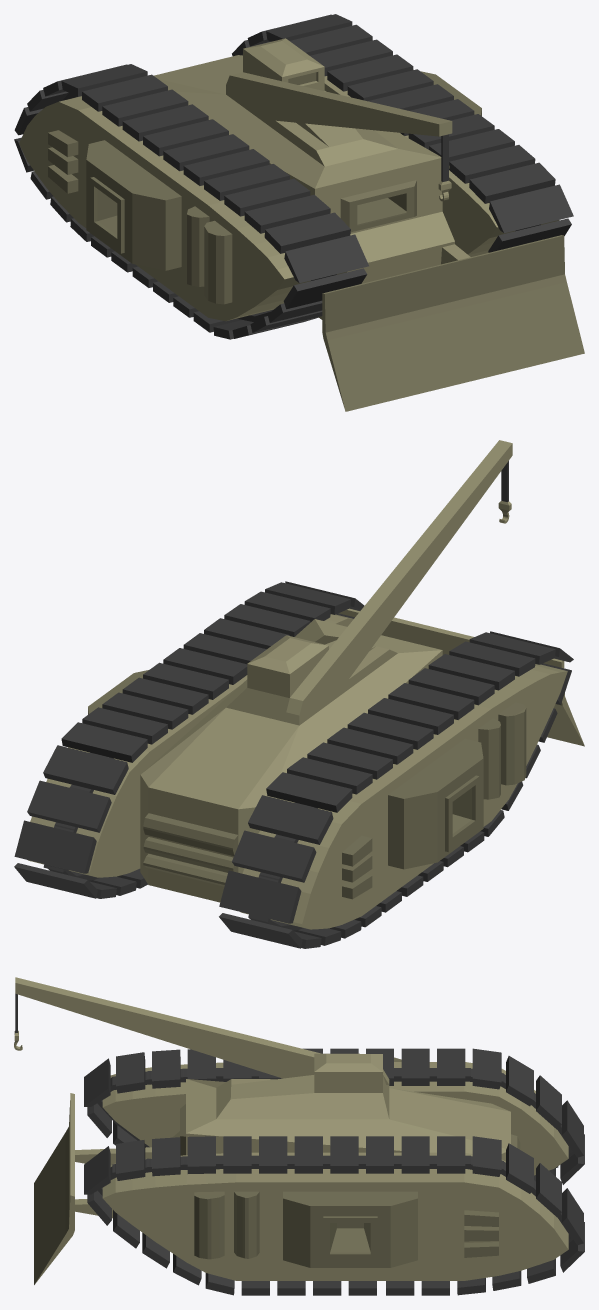
The model's file is TurretlessTank.fbx.
3 renders of one model, top to bottom at view 1: azimuth 30°, elevation 25°; view 2: azimuth 150°, elevation 25°; view 3: azimuth 270°, elevation 25°, orthographic. The views are drawn at different scales.
Visible parts, largest first — view 1: Cube; view 2: Cube; view 3: Cube.
Boxes of the visible parts, bbox=[...] form: Cube: bbox=[14, 14, 584, 411]; Cube: bbox=[14, 440, 584, 948]; Cube: bbox=[14, 977, 584, 1295].
Bounding box in the file's own units: 1022 × 762 × 1615.
